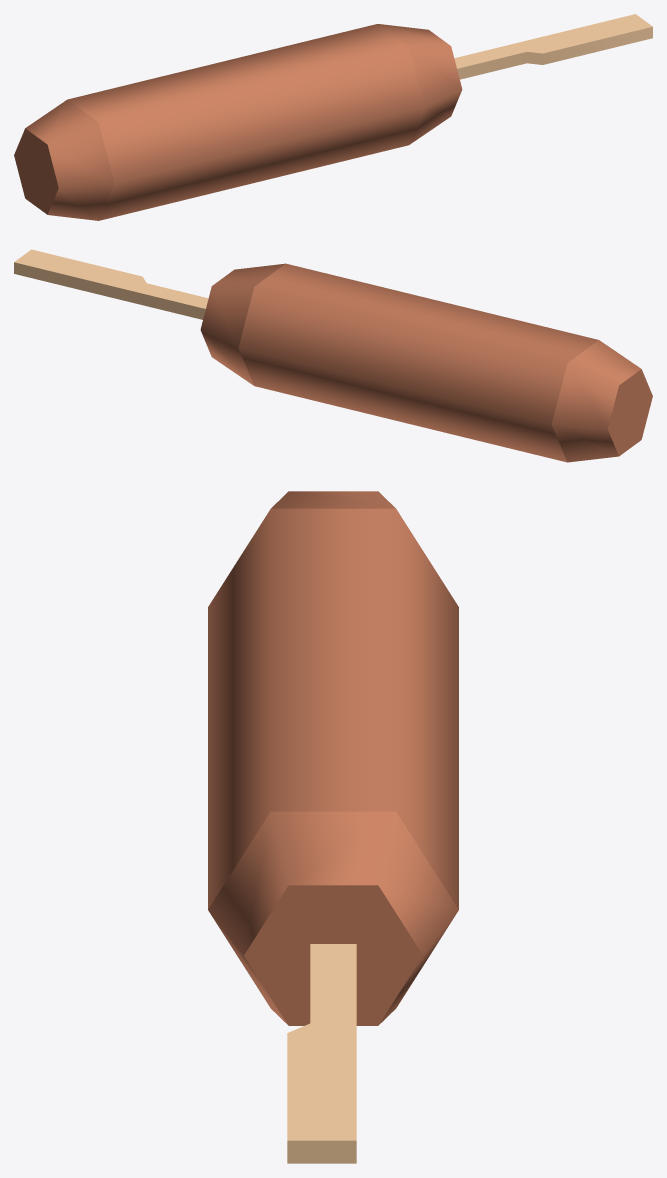
Rendered from cornDog.fbx.
3 renders of one model, top to bottom at view 1: azimuth 30°, elevation 25°; view 2: azimuth 150°, elevation 25°; view 3: azimuth 270°, elevation 25°, orthographic. The views are drawn at different scales.
Parts seen in each view (by area): view 1: dog, cornDog; view 2: dog, cornDog; view 3: dog, cornDog.
Part boxes in pixels (x1,y1,x2,y2): dog: (14,24,462,220); cornDog: (454,14,652,79); dog: (200,263,652,462); cornDog: (14,249,208,319); dog: (208,491,458,1025); cornDog: (287,944,356,1163).
Bounding box in the file's own units: 6.04 × 0.94 × 1.09.
